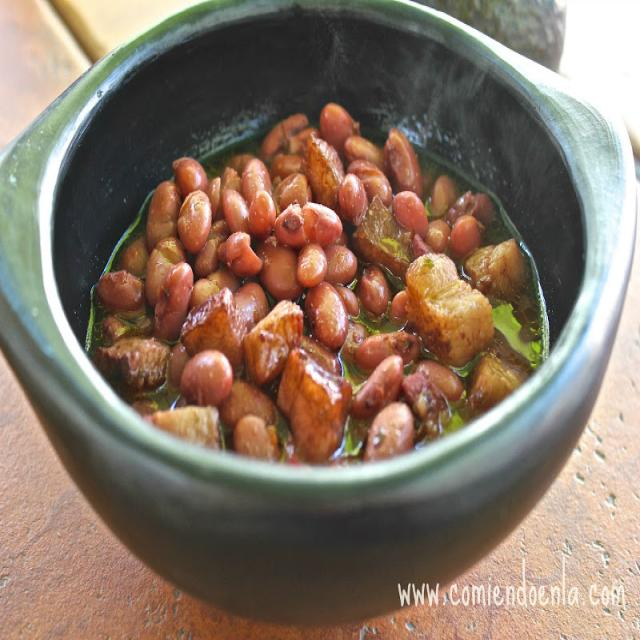frijoles: (70, 92, 574, 525)
